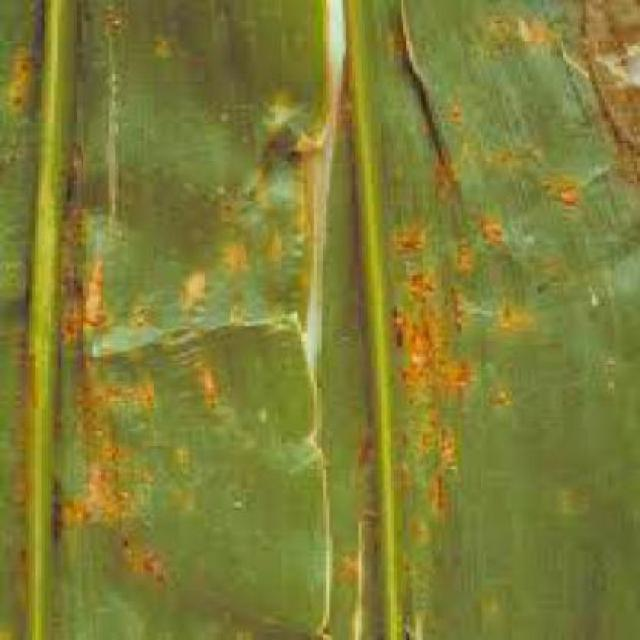Corn_Rust: (11, 0, 591, 638)
